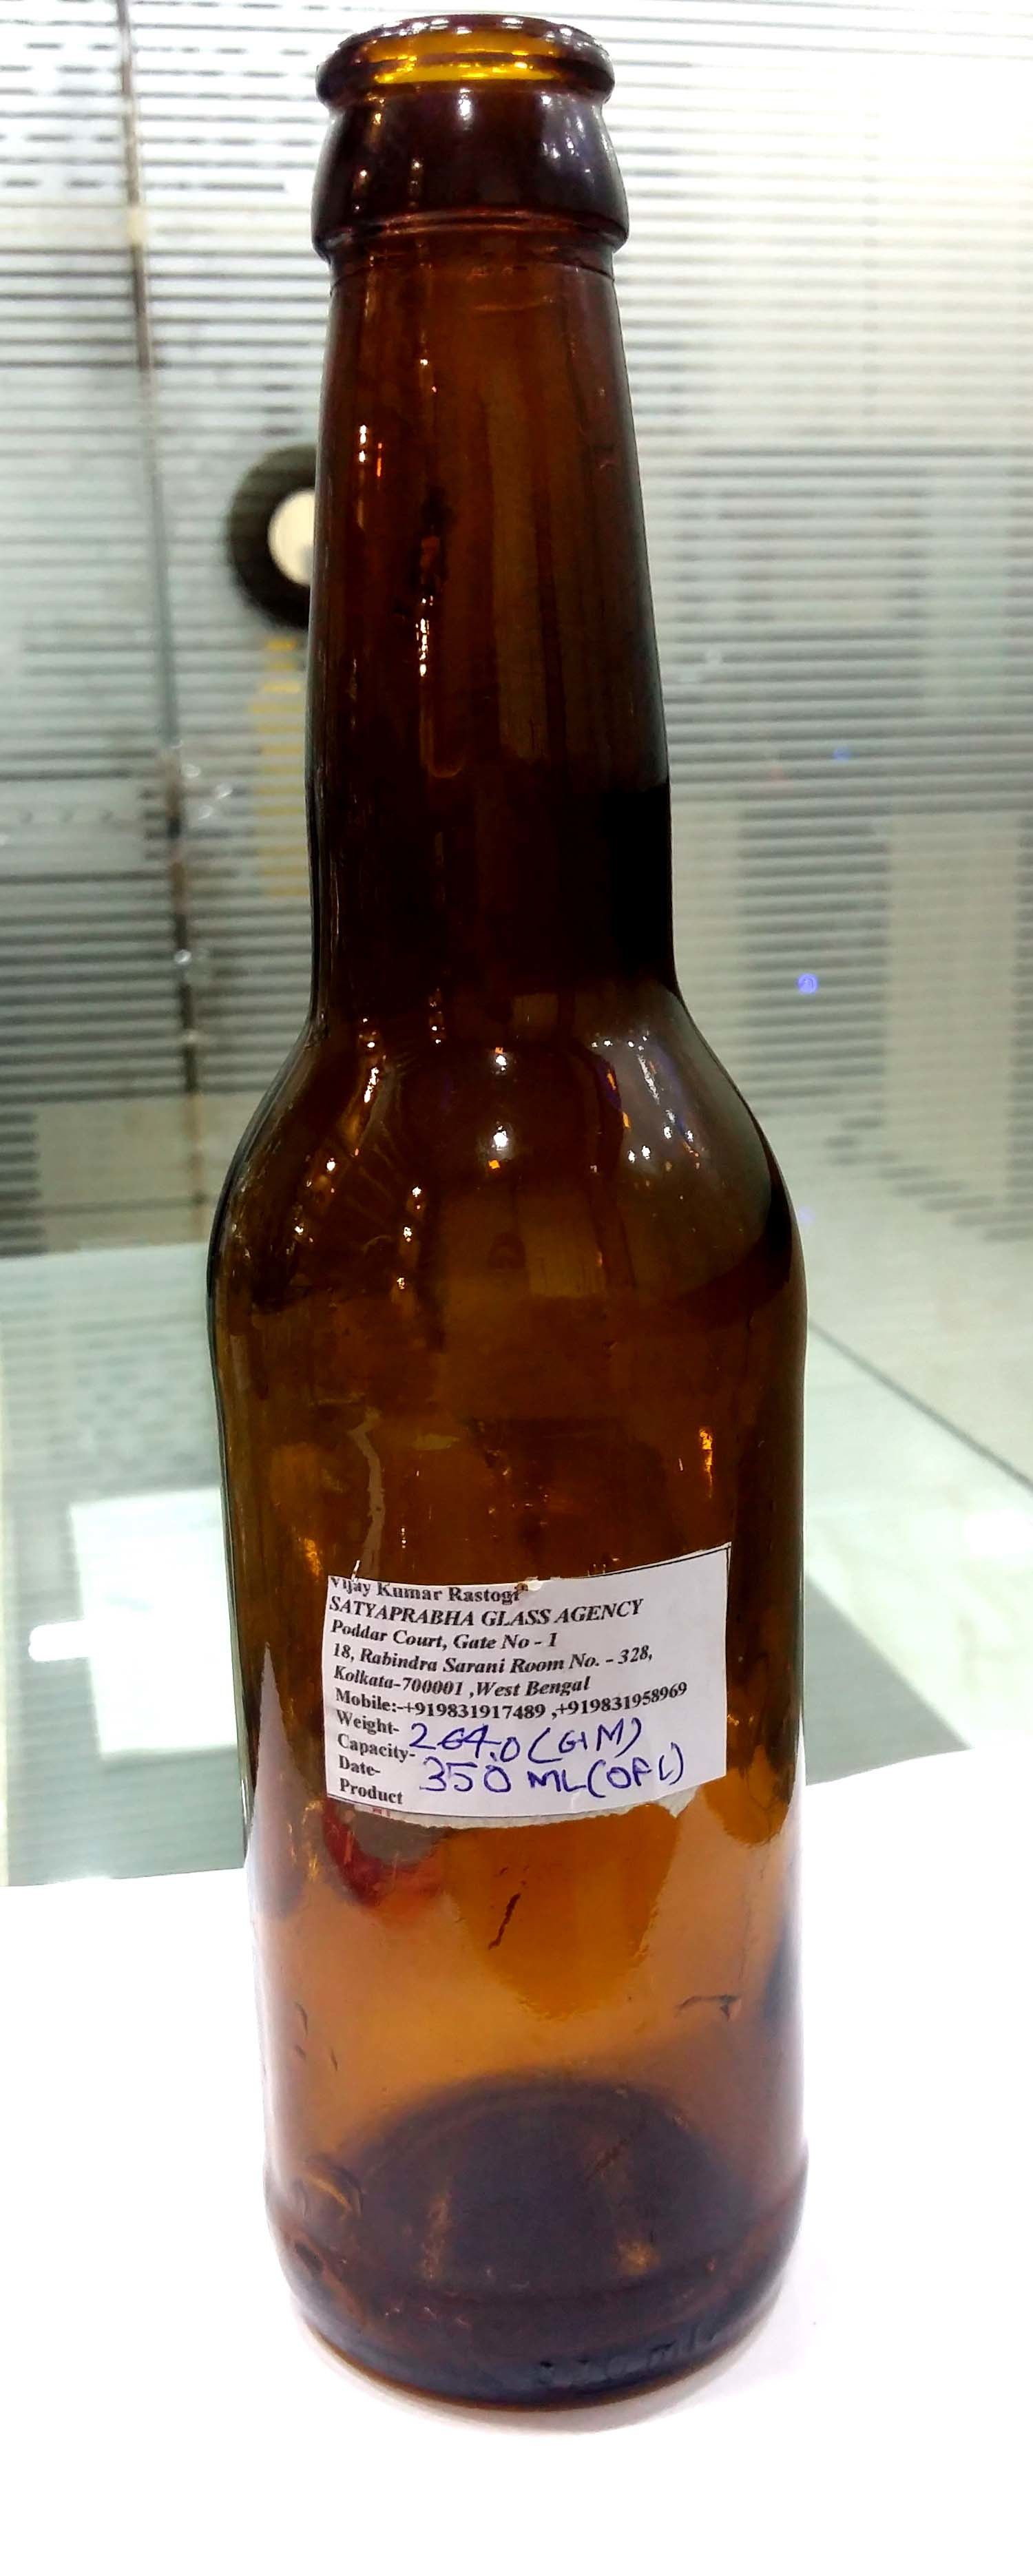bottle: (194, 0, 833, 2464)
